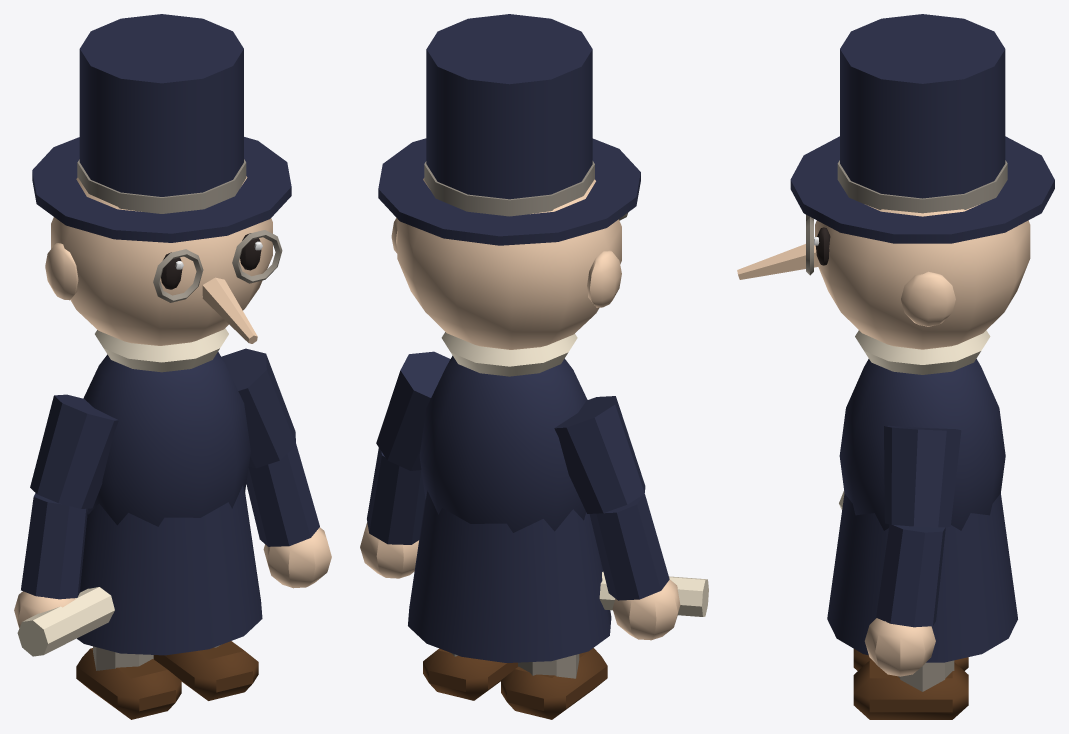
File: CH_Cust_14_VergiMemuru.fbx
3 renders of one model, left to right at view 1: azimuth 30°, elevation 25°; view 2: azimuth 150°, elevation 25°; view 3: azimuth 270°, elevation 25°, orthographic.
Visible parts, largest first — view 1: CH_Cust_14_VergiMemuru; view 2: CH_Cust_14_VergiMemuru; view 3: CH_Cust_14_VergiMemuru.
Part boxes in pixels (<box>): CH_Cust_14_VergiMemuru: <box>14,14,331,719</box>; CH_Cust_14_VergiMemuru: <box>360,14,708,719</box>; CH_Cust_14_VergiMemuru: <box>737,14,1054,719</box>.
Size of the model in its own units: 0.6531 by 1.23 by 0.5529.
1 material, 1 textured.
